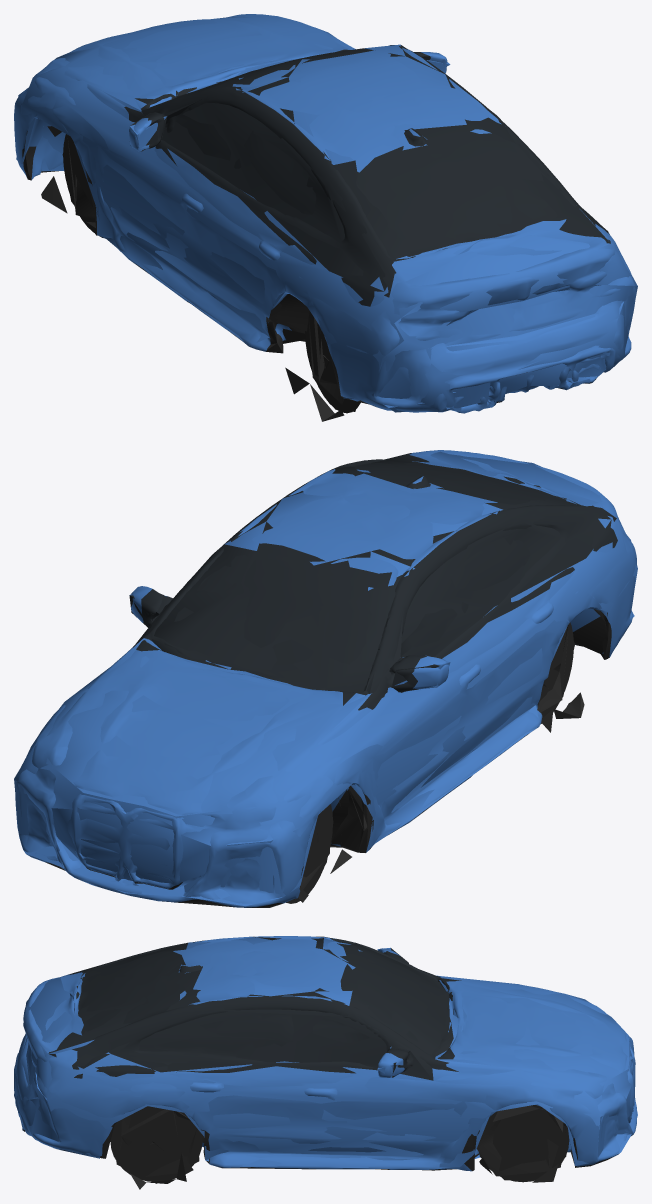
Rendered from bmw-i4.glb.
The picture shows the model from 3 angles, top to bottom: view 1: azimuth 30°, elevation 25°; view 2: azimuth 150°, elevation 25°; view 3: azimuth 270°, elevation 25°; orthographic projection. The views are drawn at different scales.
Visible parts, largest first — view 1: body, far; view 2: body, far; view 3: body, far.
Boxes of the visible parts, x1,y1,x2,y2 form: body: (14, 14, 636, 421); far: (16, 16, 637, 412); body: (15, 450, 636, 907); far: (14, 450, 637, 906); body: (14, 936, 636, 1189); far: (15, 936, 637, 1183).
Size of the model in its own units: 2.13 by 1.57 by 4.84.
